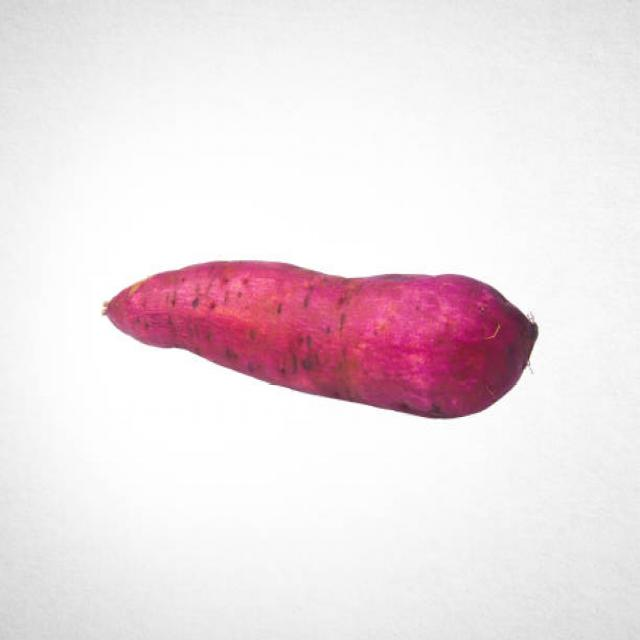Sweet Potato: (94, 254, 542, 423)
